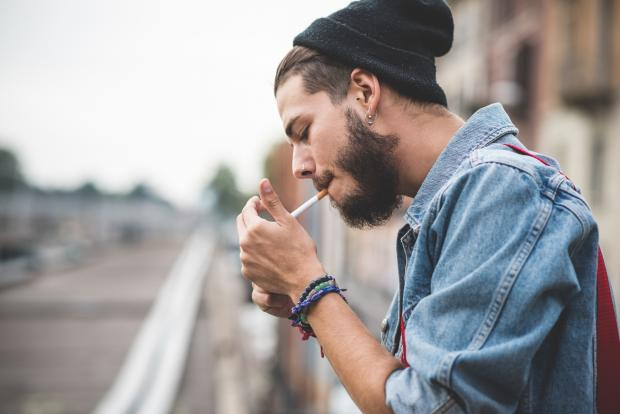cigarette: (275, 182, 331, 223)
